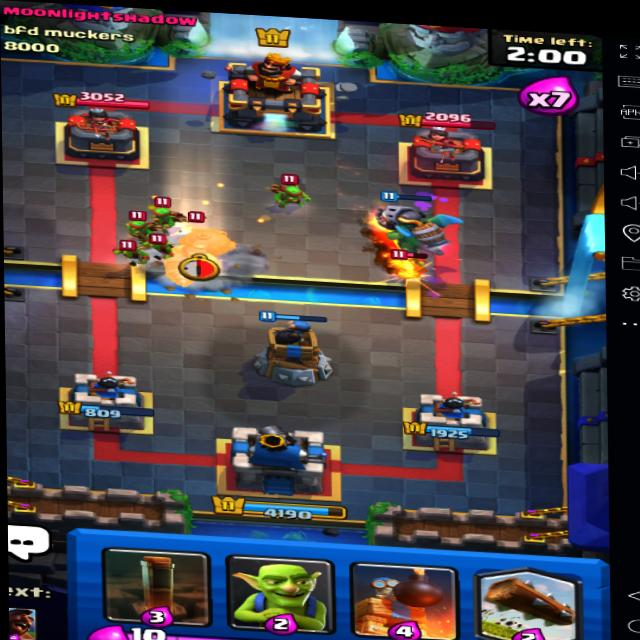goblin: (159, 209, 254, 294), (105, 232, 151, 266), (139, 234, 187, 265), (384, 255, 427, 285)
spear-goblin: (272, 169, 315, 206), (148, 195, 189, 232), (124, 204, 160, 245)
